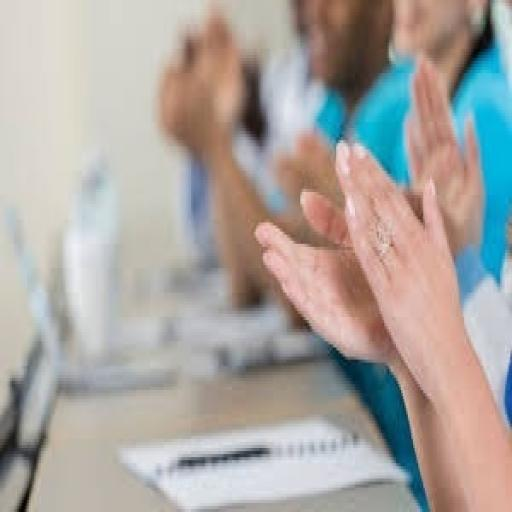clapping: (156, 0, 510, 509)
